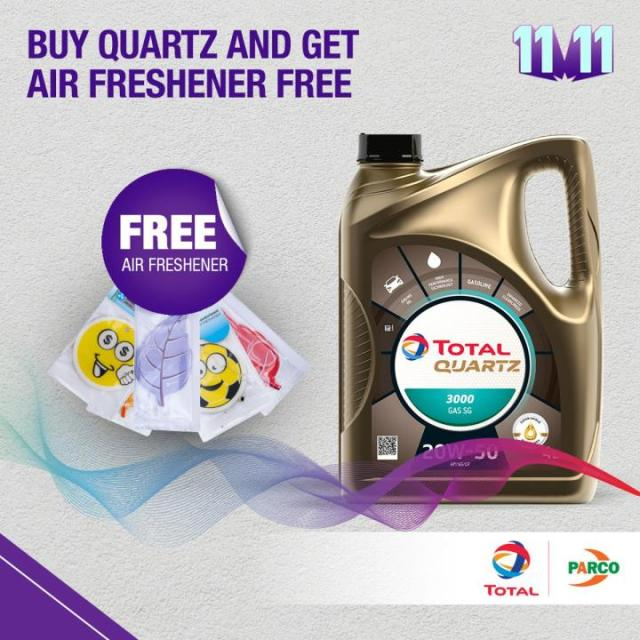motor_oil: (336, 128, 604, 512)
